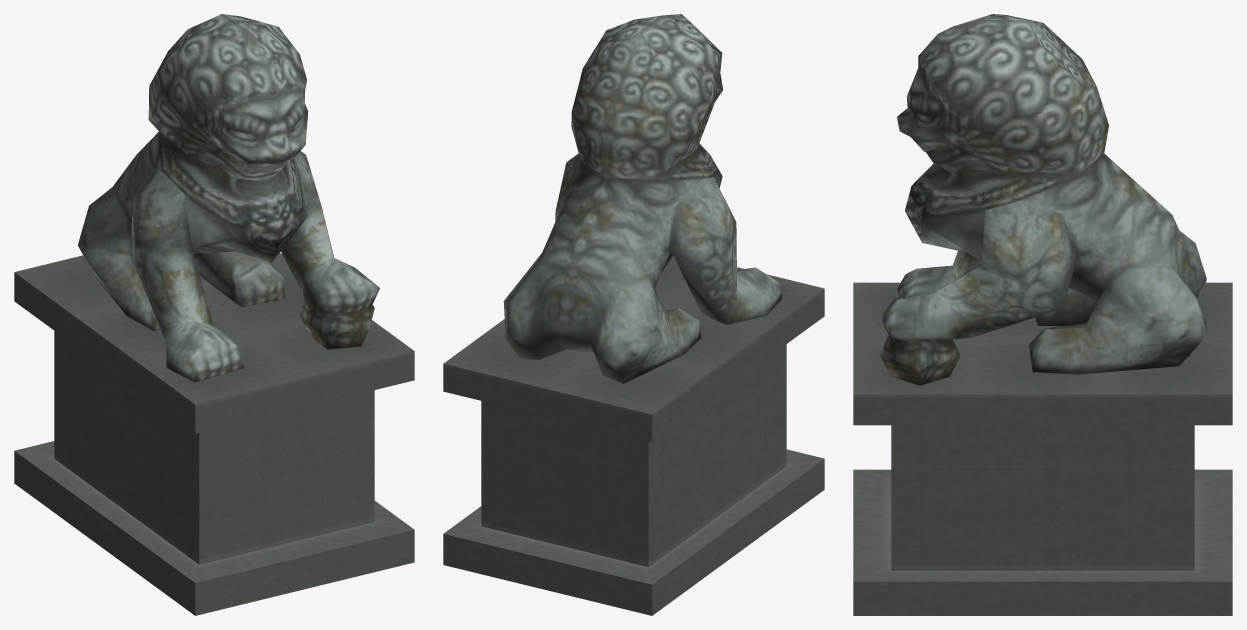
Rendered from fu_dog_hutong.fbx.
The picture shows the model from 3 angles, left to right: view 1: azimuth 30°, elevation 25°; view 2: azimuth 150°, elevation 25°; view 3: azimuth 270°, elevation 25°; orthographic projection. The views are drawn at different scales.
Visible parts, largest first — view 1: relicFudogStatue_Mesh; view 2: relicFudogStatue_Mesh; view 3: relicFudogStatue_Mesh.
Boxes of the visible parts, x1=… form: relicFudogStatue_Mesh: x1=14, y1=14, x2=414, y2=615; relicFudogStatue_Mesh: x1=443, y1=14, x2=824, y2=615; relicFudogStatue_Mesh: x1=853, y1=14, x2=1232, y2=615.
Bounding box in the file's own units: 0.4996 × 1.12 × 0.7144.
1 material, 1 textured.
